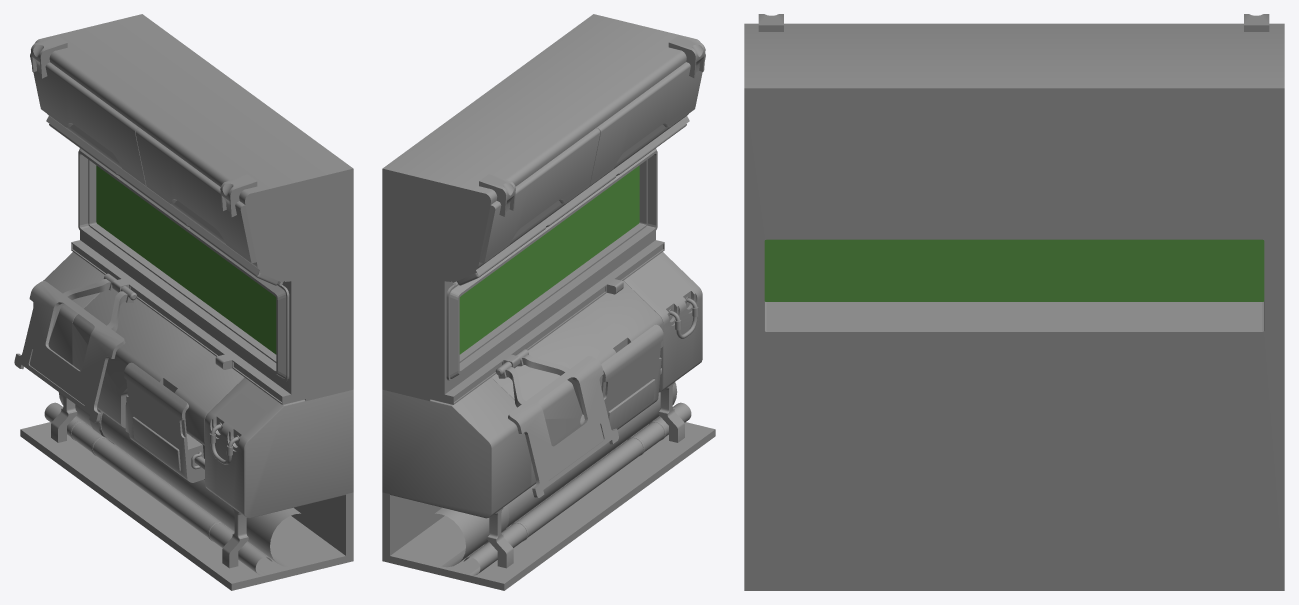
Rendered from window_5.FBX.
3 renders of one model, left to right at view 1: azimuth 30°, elevation 25°; view 2: azimuth 150°, elevation 25°; view 3: azimuth 270°, elevation 25°, orthographic. The views are drawn at different scales.
Visible parts, largest first — view 1: window_low; view 2: window_low; view 3: window_low.
Part boxes in pixels (x1,y1,x2,y2): window_low: (14,14,353,590); window_low: (382,14,715,590); window_low: (744,14,1284,590).
Size of the model in its own units: 1.17 by 3.12 by 3.
